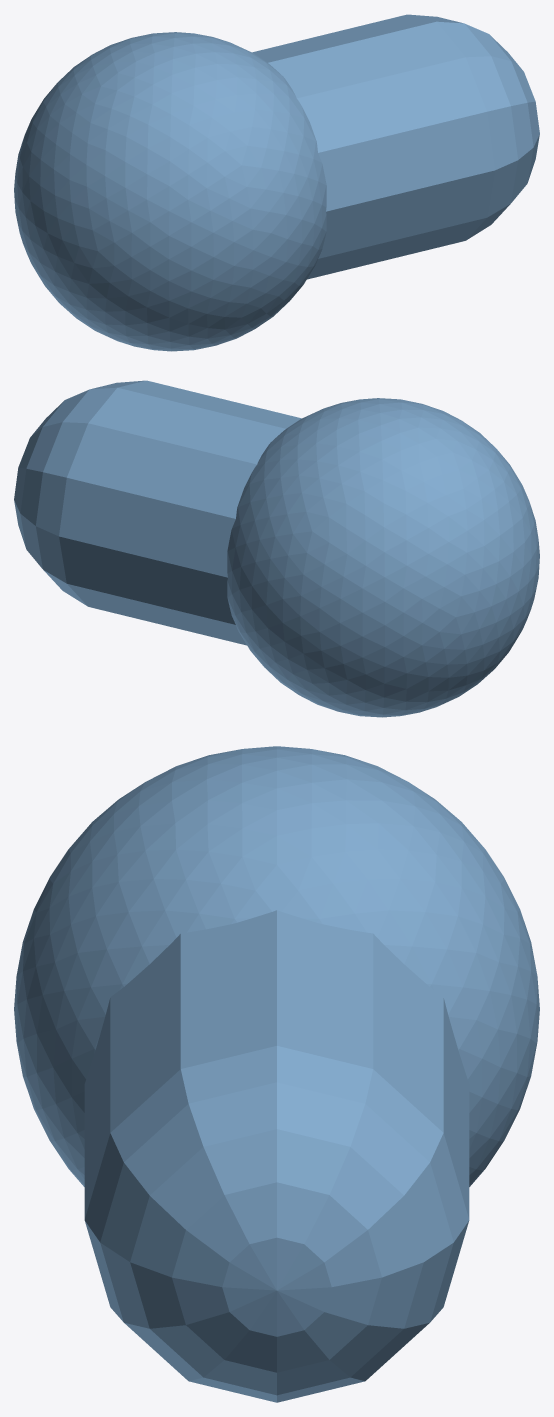
3 renders of one model, top to bottom at view 1: azimuth 30°, elevation 25°; view 2: azimuth 150°, elevation 25°; view 3: azimuth 270°, elevation 25°, orthographic. The views are drawn at different scales.
Visible parts, largest first — view 1: world; view 2: world; view 3: world.
Boxes of the visible parts, x1=… form: world: x1=14, y1=14, x2=539, y2=351; world: x1=14, y1=380, x2=539, y2=717; world: x1=14, y1=746, x2=539, y2=1402.
Bounding box in the file's own units: 0.1625 × 0.092 × 0.092.
